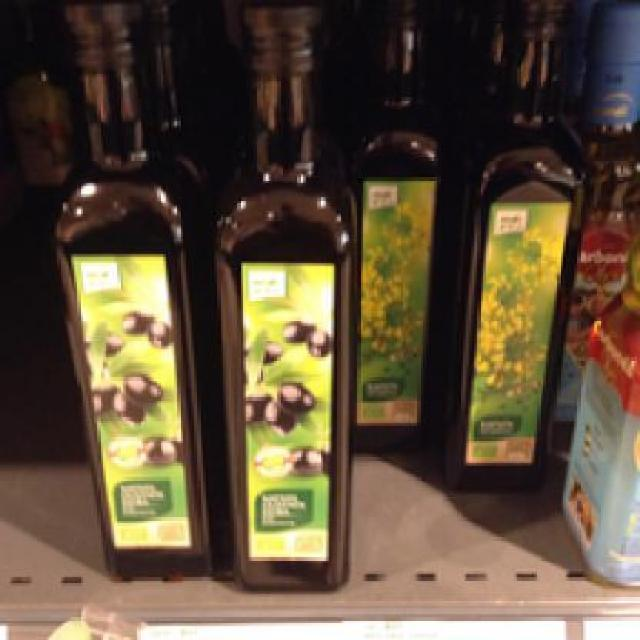Oil: (42, 3, 218, 580), (209, 2, 354, 588), (440, 8, 577, 486)
